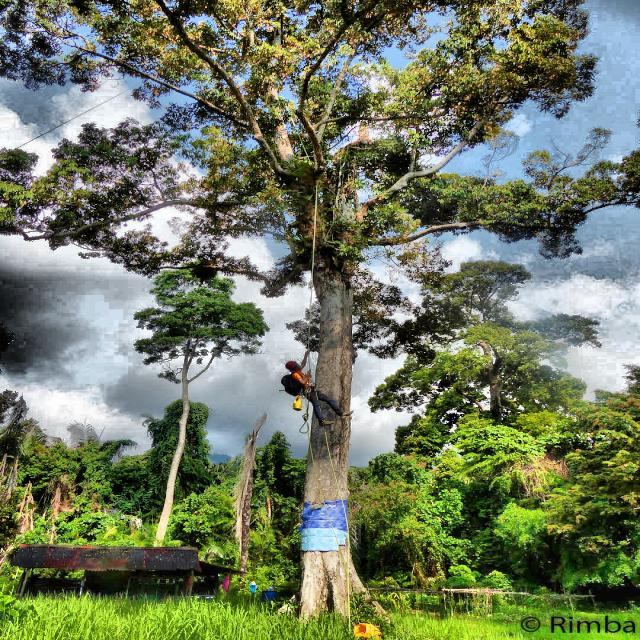arvore: (274, 172, 377, 618)
